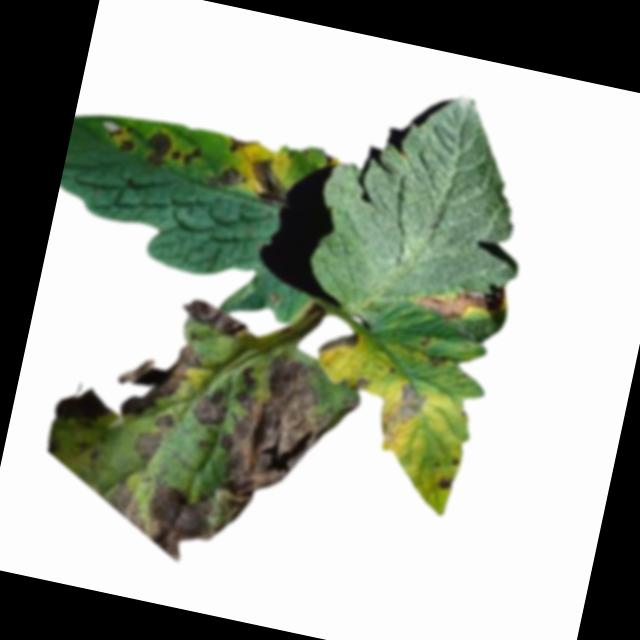Early_blight: (204, 339, 345, 512), (98, 468, 237, 572), (110, 328, 208, 428), (412, 264, 511, 330), (176, 289, 249, 341), (376, 377, 427, 443), (47, 377, 114, 426), (241, 155, 292, 209), (191, 380, 234, 431), (127, 424, 165, 470), (97, 115, 141, 154), (140, 123, 171, 169), (320, 323, 360, 358), (202, 160, 241, 194), (167, 138, 203, 170), (222, 129, 254, 157), (350, 371, 370, 392), (435, 469, 454, 491)
